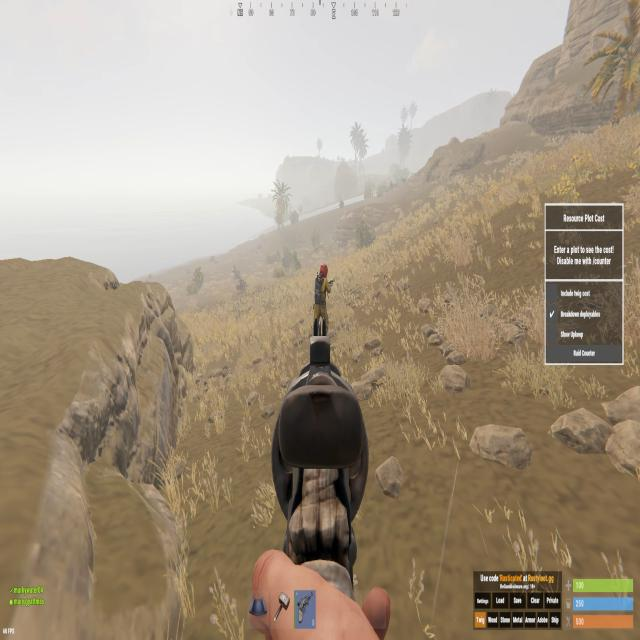Player: (314, 263, 331, 318)
